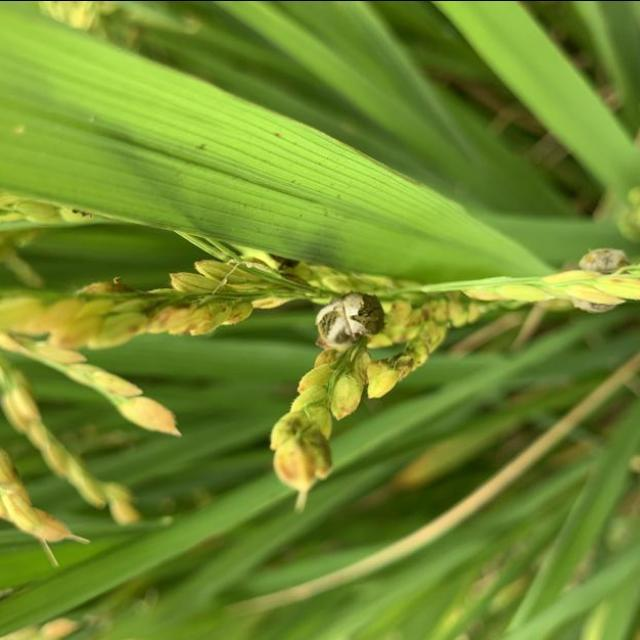Leaf_Scald: (314, 288, 388, 356), (570, 246, 632, 320)
